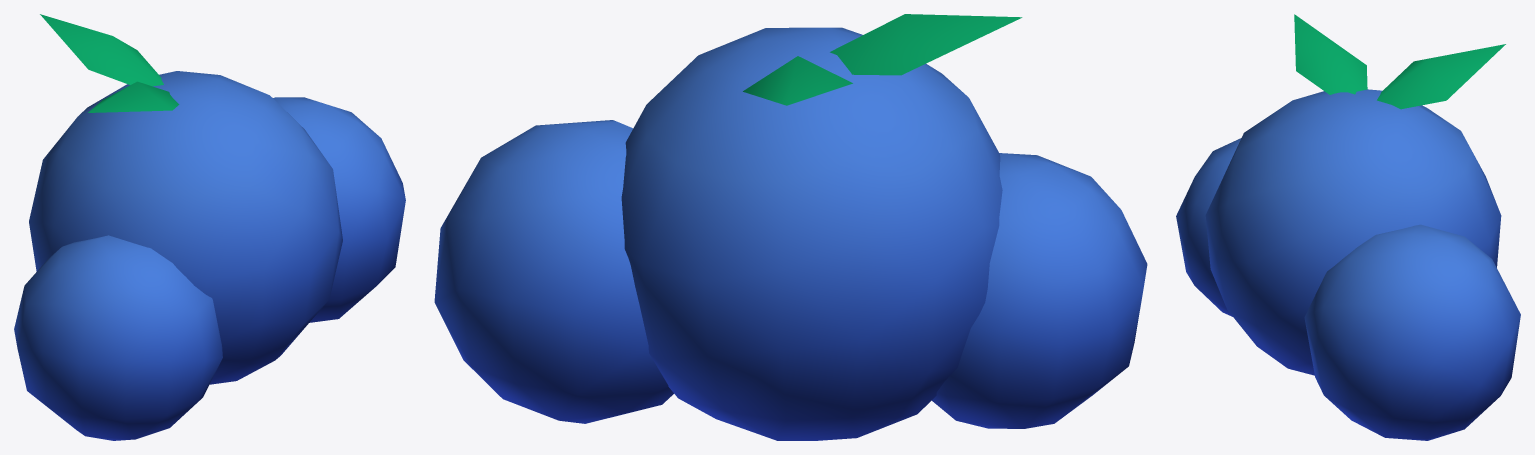
File: Plasmaberry.glb
3 views of the same model, side by side, from view 1: azimuth 30°, elevation 25°; view 2: azimuth 150°, elevation 25°; view 3: azimuth 270°, elevation 25° (orthographic). The views are drawn at different scales.
Parts seen in each view (by area): view 1: Plasmaberry; view 2: Plasmaberry; view 3: Plasmaberry.
Part boxes in pixels (box(x1,y1,x2,y2)): Plasmaberry: box(14, 14, 405, 440); Plasmaberry: box(434, 14, 1147, 440); Plasmaberry: box(1176, 14, 1520, 440).
Size of the model in its own units: 0.9501 by 0.66 by 0.6984.
